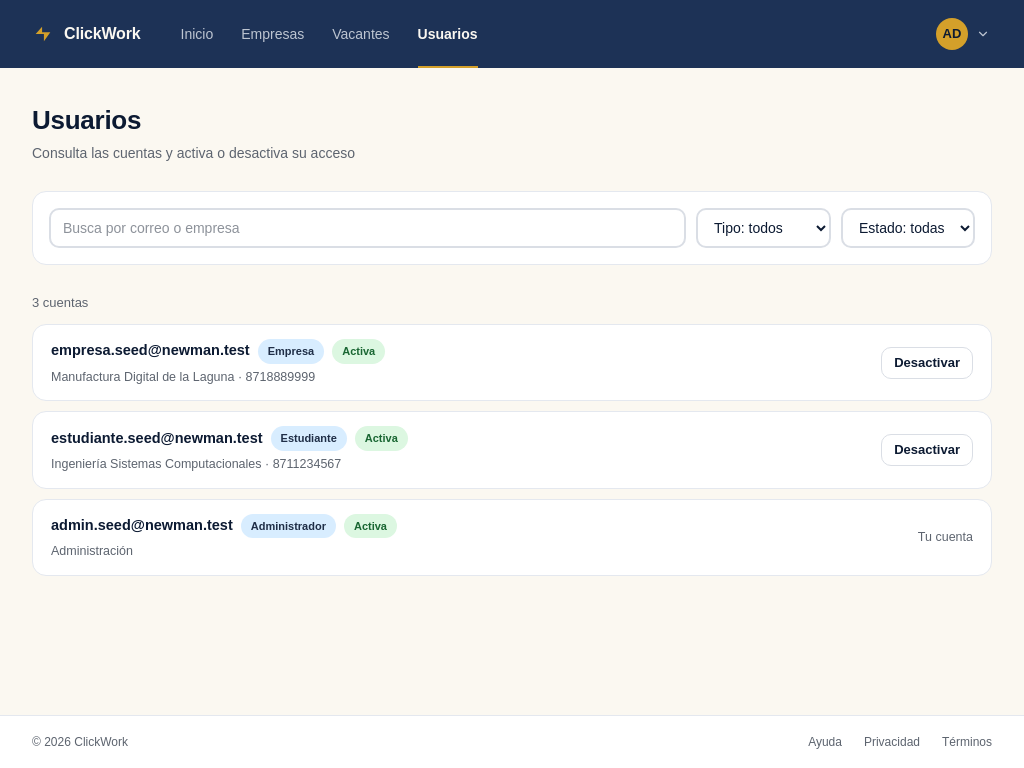
AdminUsersPage › lists the accounts and filters them by role
Expected: the text "3 cuentas" is shown, [32,294,88,310]
Expected: the text "Manufactura Digital de la Laguna · 8718889999" is shown, [51,370,315,384]
Select "Estudiante" in the dropdown named "Tipo de cuenta" at (764, 228), box [696,208,831,248]
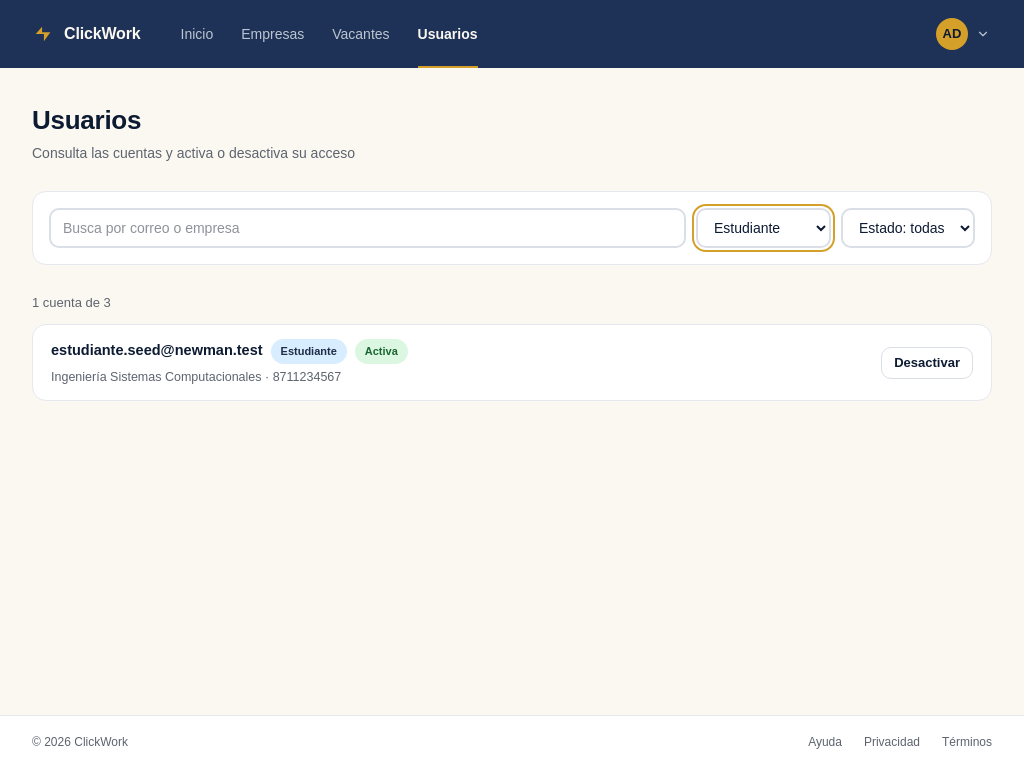
Expected: the heading "estudiante.seed@newman.test" is shown, [51,340,263,362]
Now the text "1 cuenta de 3" is shown, box [32,294,111,310]
Now the heading "empresa.seed@newman.test" is gone
